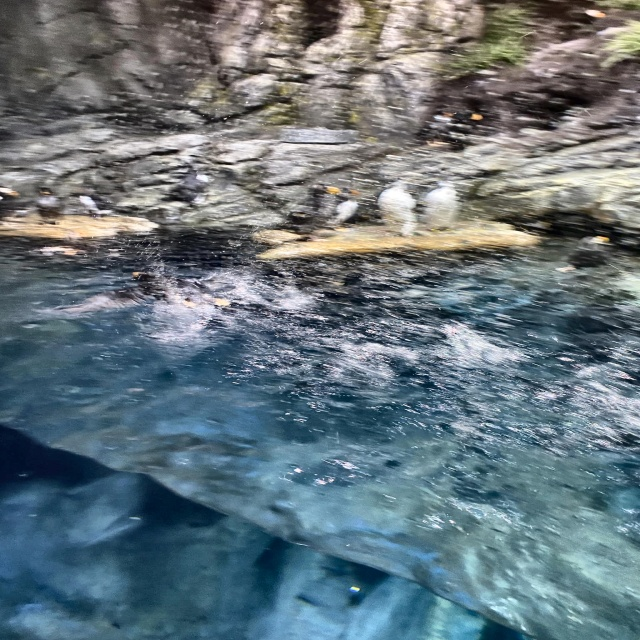puffin: (62, 270, 241, 318), (277, 183, 339, 239), (376, 181, 418, 236), (418, 180, 460, 235), (166, 164, 215, 208), (558, 233, 610, 274), (321, 186, 358, 224), (416, 111, 451, 148), (560, 8, 603, 37), (450, 112, 480, 148), (34, 188, 63, 223), (0, 188, 19, 211)
